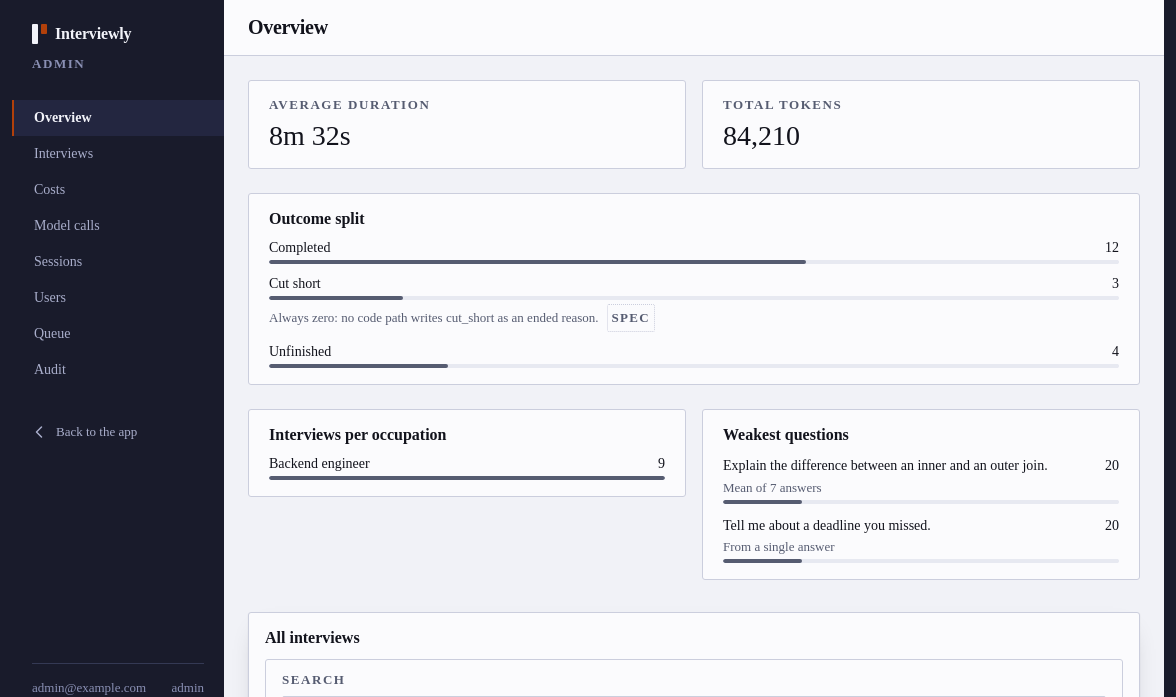
Test: admin list + stats (W11) › costs prints the platform total the backend computed, not a sum of the loaded rows
Step 1. Click the button with test id "admin-nav-costs" → (118, 190), box [12,172,224,208]
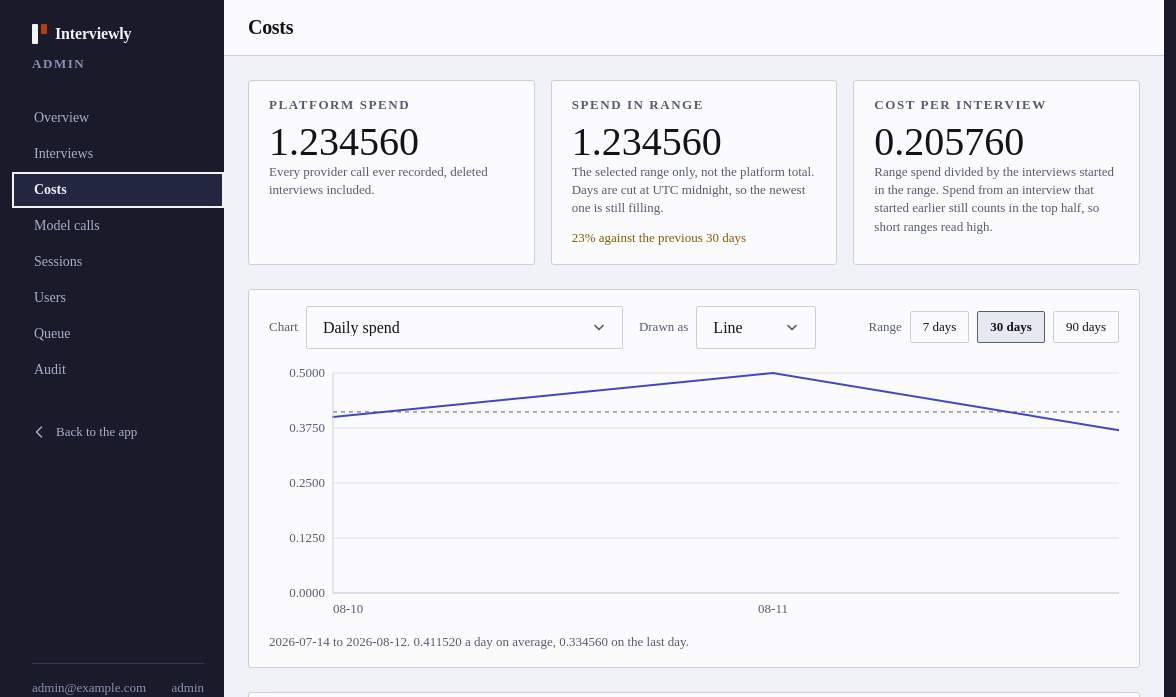
Result: the text "1.234560" below "Platform spend" is shown at [269,119,419,164]
Result: the text "1.234560" below "Spend in range" is shown at [572,119,722,164]
